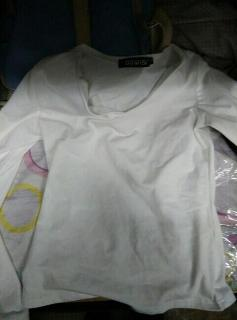long sleeve top: (0, 43, 237, 316)
